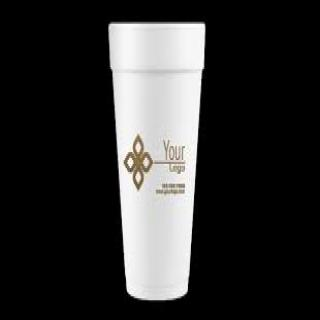PAPER: (108, 20, 204, 298)
